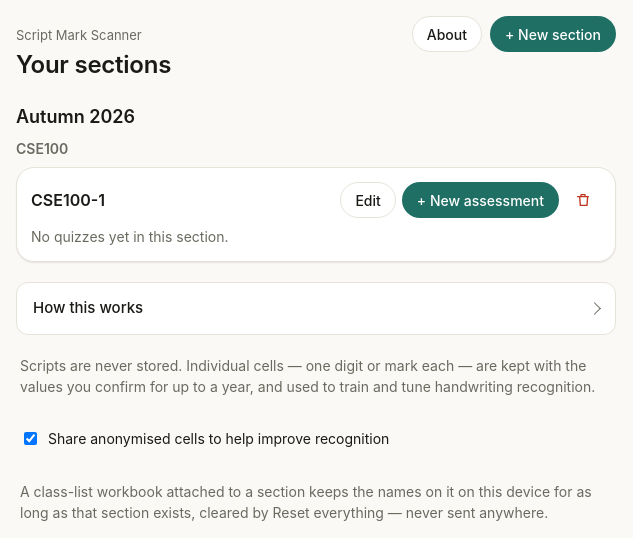
Test: App — the semester-purge offer only fires on a genuinely new semester (step.md 13.18) › editing an existing section into a "new" semester does not offer a purge
This screenshot has width=633, height=538.
Click the button "Edit" at (368, 200), box x1=340 y1=182 x2=396 y2=218
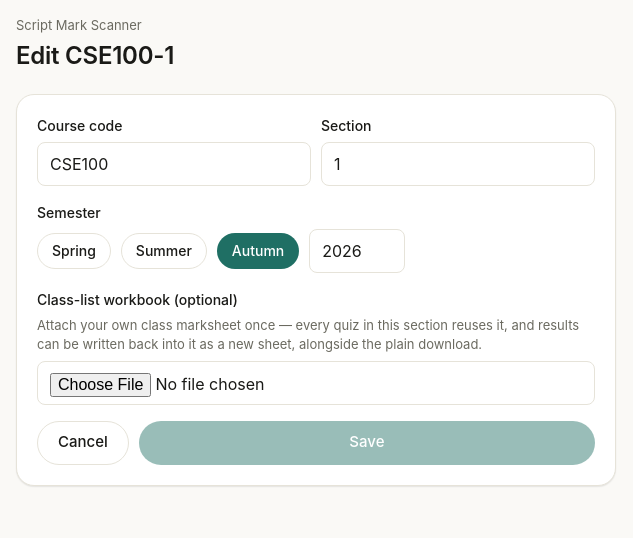
expect the number field named "semester year" is shown: met, box x1=309 y1=228 x2=405 y2=272
Click the button "Spring" at (74, 250), box x1=37 y1=232 x2=111 y2=268
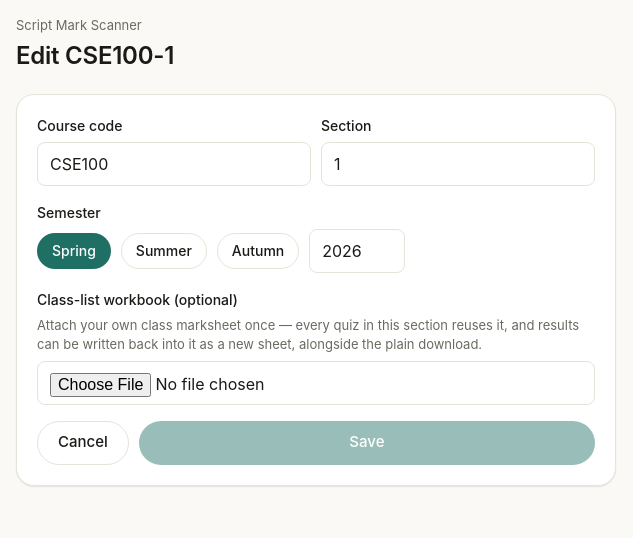
Replace the text in the number field named "semester year" with "2027" at (357, 250), box x1=309 y1=228 x2=405 y2=272
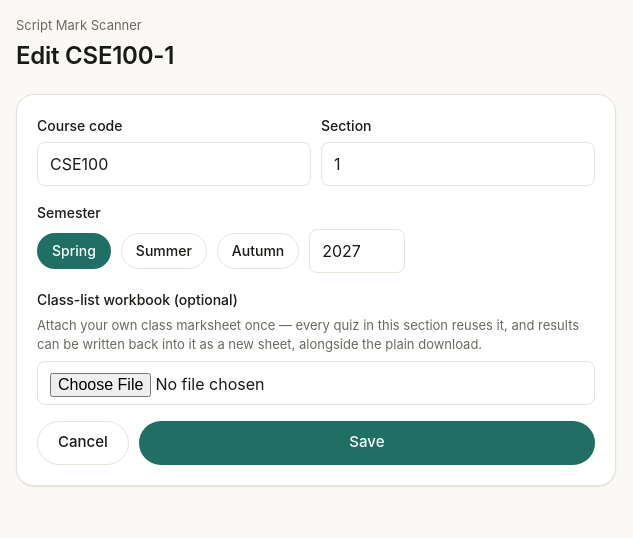
expect the button "Save" is enabled: met
Click the button "Save" at (367, 442), box x1=139 y1=420 x2=595 y2=464
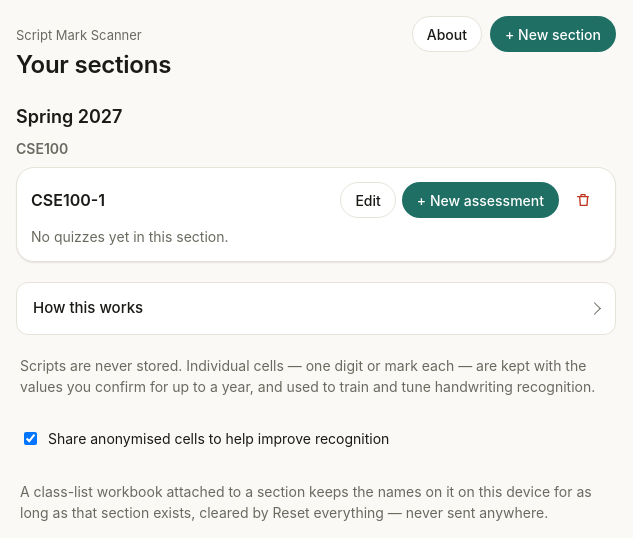
expect the text "CSE100" is shown: met, box x1=16 y1=140 x2=68 y2=157
